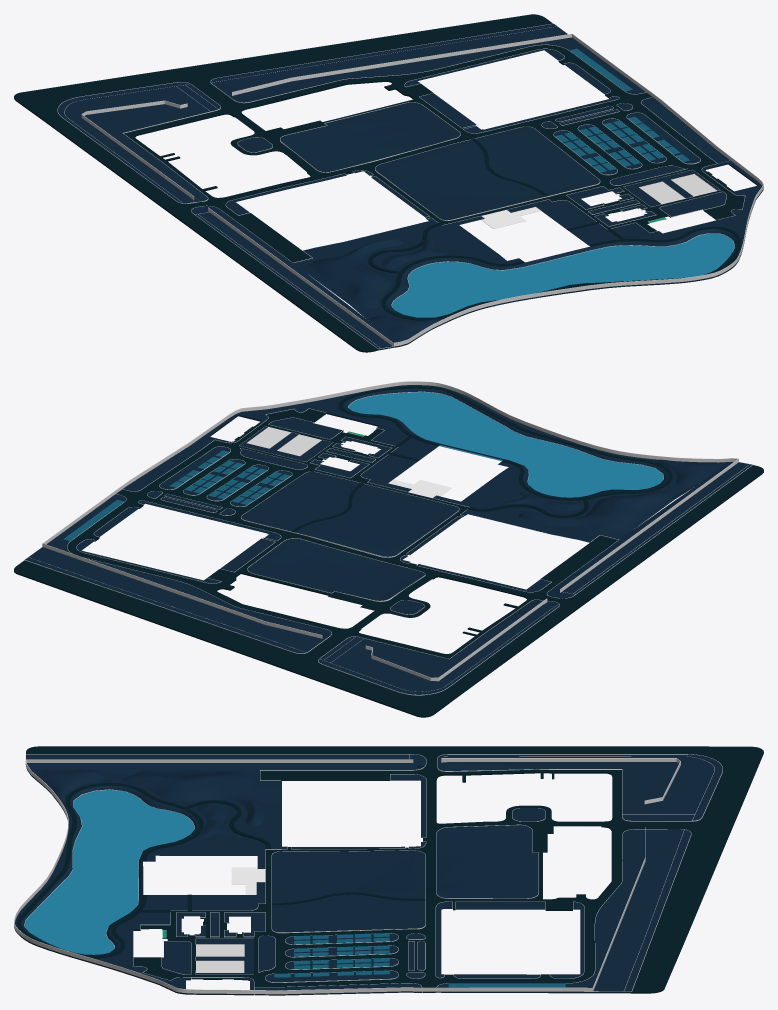
Rendered from yq_floor.glb.
3 renders of one model, top to bottom at view 1: azimuth 30°, elevation 25°; view 2: azimuth 150°, elevation 25°; view 3: azimuth 270°, elevation 25°, orthographic. The views are drawn at different scales.
Parts seen in each view (by area): view 1: yq_floor_road13, yq_floor32_water01, yq_floor28_grass, yq_floor03_grass, yq_floor30, yq_floor34, yq_floor48_grass, yq_floor_road00, yq_floor_road06, yq_floor_outline26, yq_floor33, yq_floor31 (+19 smaller); view 2: yq_floor_road13, yq_floor32_water01, yq_floor28_grass, yq_floor03_grass, yq_floor30, yq_floor34, yq_floor48_grass, yq_floor_outline26, yq_floor_road00, yq_floor_road06, yq_floor33, yq_floor31 (+17 smaller); view 3: yq_floor_road13, yq_floor32_water01, yq_floor28_grass, yq_floor03_grass, yq_floor30, yq_floor34, yq_floor48_grass, yq_floor33, yq_floor_road00, yq_floor_road06, yq_floor_outline26, yq_floor31 (+32 smaller).
Boxes of the visible parts, bbox=[...] form: yq_floor_road13: bbox=[14, 14, 552, 352]; yq_floor32_water01: bbox=[392, 233, 734, 317]; yq_floor28_grass: bbox=[375, 126, 599, 220]; yq_floor03_grass: bbox=[293, 216, 522, 346]; yq_floor30: bbox=[210, 23, 645, 102]; yq_floor34: bbox=[57, 82, 220, 203]; yq_floor48_grass: bbox=[280, 102, 460, 172]; yq_floor_road00: bbox=[250, 45, 650, 142]; yq_floor_road06: bbox=[527, 96, 716, 189]; yq_floor_outline26: bbox=[232, 33, 763, 346]; yq_floor33: bbox=[191, 206, 401, 350]; yq_floor31: bbox=[444, 160, 763, 322]; yq_floor_road13: bbox=[14, 465, 763, 717]; yq_floor32_water01: bbox=[348, 392, 663, 497]; yq_floor28_grass: bbox=[241, 471, 459, 556]; yq_floor03_grass: bbox=[433, 459, 728, 542]; yq_floor30: bbox=[25, 494, 331, 653]; yq_floor34: bbox=[318, 600, 559, 694]; yq_floor48_grass: bbox=[247, 538, 425, 600]; yq_floor_outline26: bbox=[42, 381, 737, 638]; yq_floor_road00: bbox=[67, 490, 331, 629]; yq_floor_road06: bbox=[121, 440, 319, 520]; yq_floor33: bbox=[547, 462, 752, 598]; yq_floor31: bbox=[203, 385, 656, 461]; yq_floor_road13: bbox=[26, 746, 763, 993]; yq_floor32_water01: bbox=[24, 790, 194, 954]; yq_floor28_grass: bbox=[272, 850, 425, 932]; yq_floor03_grass: bbox=[27, 769, 287, 868]; yq_floor30: bbox=[435, 829, 690, 993]; yq_floor34: bbox=[437, 754, 722, 820]; yq_floor48_grass: bbox=[436, 825, 538, 898]; yq_floor33: bbox=[26, 754, 426, 770]; yq_floor_road00: bbox=[425, 834, 622, 992]; yq_floor_road06: bbox=[242, 926, 425, 992]; yq_floor_outline26: bbox=[14, 759, 645, 994]; yq_floor31: bbox=[14, 801, 253, 995].
Bounding box in the file's own units: 379 × 12.49 × 489.
